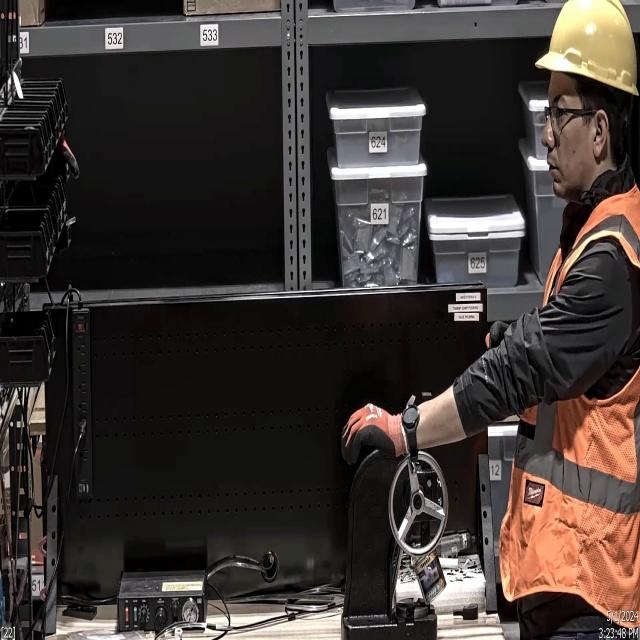construction-gloves: (342, 402, 408, 468)
